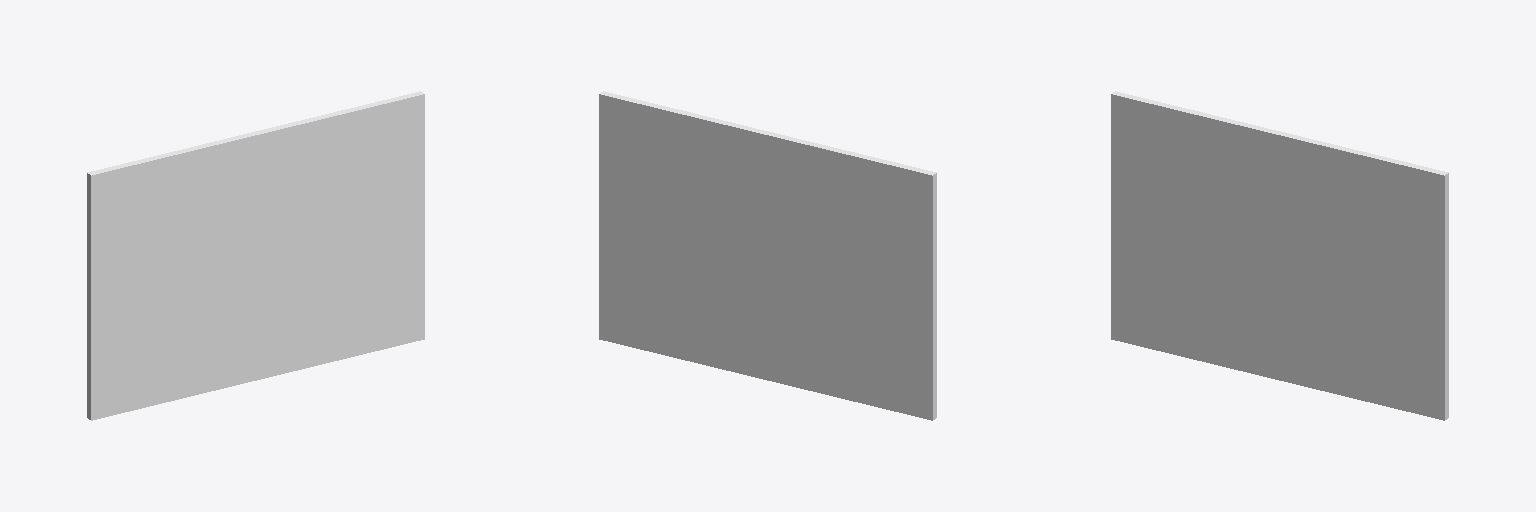
The model's file is fullsky-3.obj.
3 renders of one model, left to right at view 1: azimuth 30°, elevation 25°; view 2: azimuth 150°, elevation 25°; view 3: azimuth 330°, elevation 25°, orthographic.
Parts seen in each view (by area): view 1: object 1; view 2: object 1; view 3: object 1.
Boxes of the visible parts, x1=… form: object 1: x1=87, y1=91, x2=424, y2=420; object 1: x1=599, y1=91, x2=936, y2=420; object 1: x1=1111, y1=91, x2=1448, y2=420.
Size of the model in its own units: 4.7 by 3.3 by 0.1.